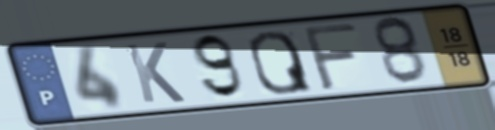4: (72, 40, 127, 115)
8: (370, 15, 430, 88)
9: (189, 33, 247, 103)
F: (298, 21, 362, 94)
K: (121, 39, 189, 105)
Q: (245, 28, 317, 97)
